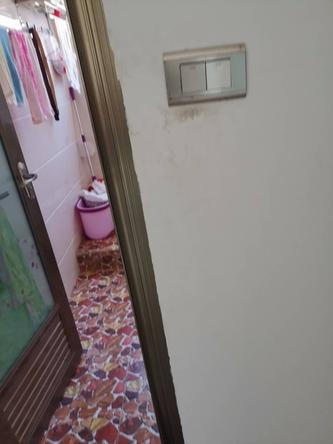switch: (201, 52, 238, 92), (176, 58, 210, 95)
